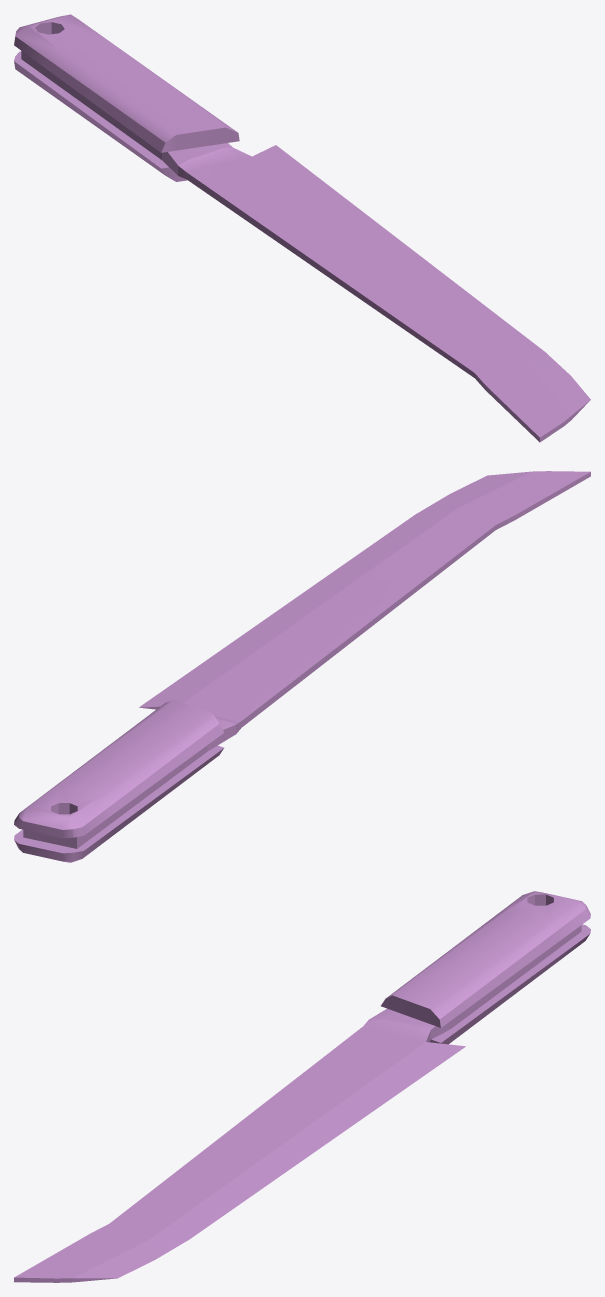
File: Knife06.fbx
3 views of the same model, one above another, from view 1: azimuth 30°, elevation 25°; view 2: azimuth 150°, elevation 25°; view 3: azimuth 330°, elevation 25° (orthographic). The views are drawn at different scales.
Visible parts, largest first — view 1: Utensils01_Uv_v001:Knife06; view 2: Utensils01_Uv_v001:Knife06; view 3: Utensils01_Uv_v001:Knife06.
Part boxes in pixels (<box>): Utensils01_Uv_v001:Knife06: <box>14,14,590,442</box>; Utensils01_Uv_v001:Knife06: <box>14,471,590,862</box>; Utensils01_Uv_v001:Knife06: <box>14,891,590,1282</box>.
Size of the model in its own units: 6.59 by 2.84 by 58.72.
1 material, 1 textured.
